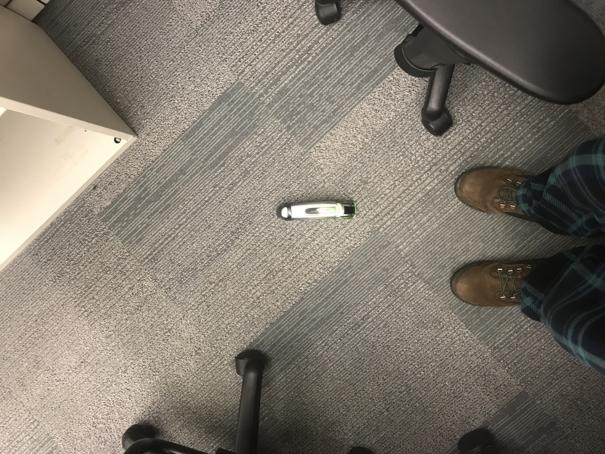Freewheel: (276, 198, 355, 222)
